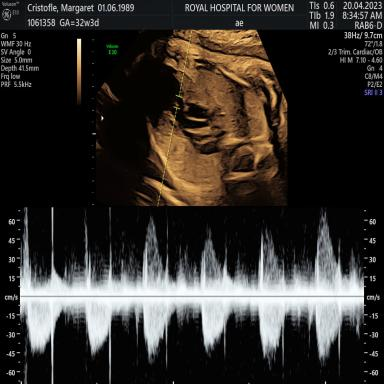Ultrasound-Waves: (26, 208, 362, 384)
